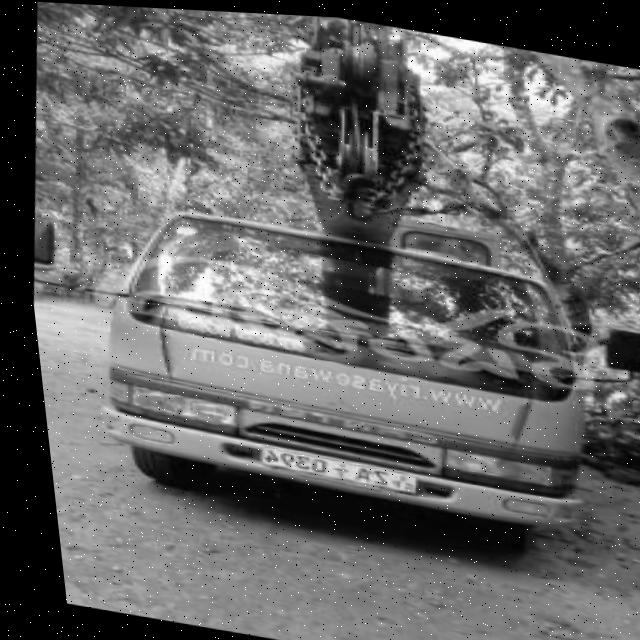truck: (13, 137, 640, 575)
